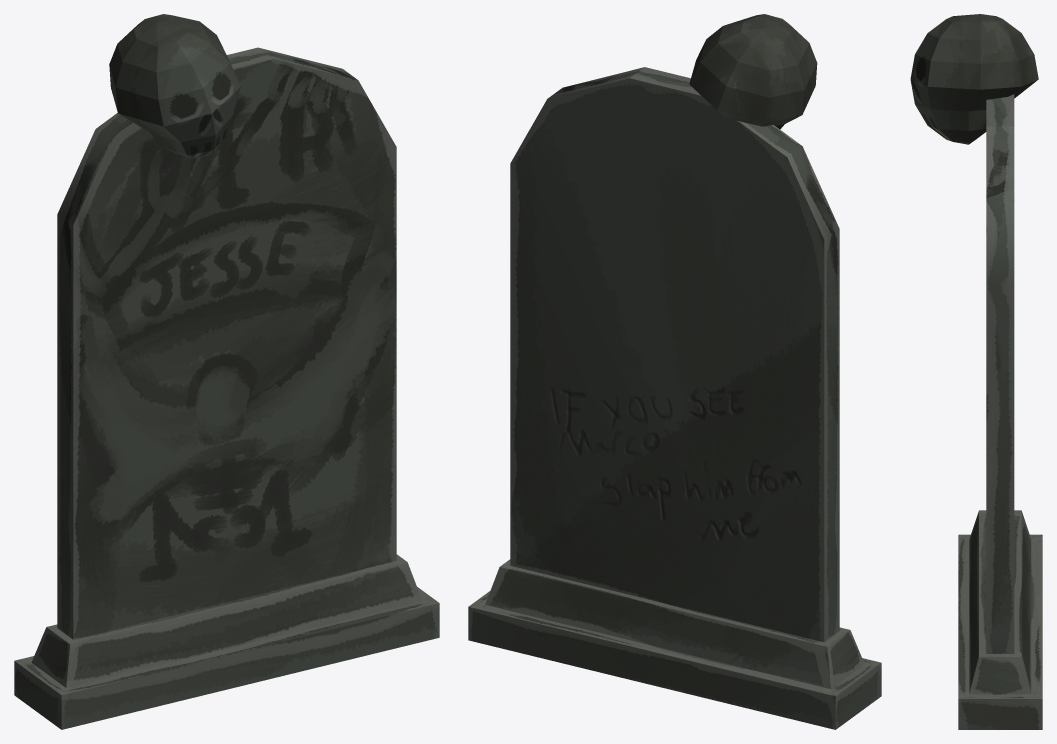
Rendered from JesseGrave_Geo.fbx.
3 views of the same model, side by side, from view 1: azimuth 30°, elevation 25°; view 2: azimuth 150°, elevation 25°; view 3: azimuth 270°, elevation 25° (orthographic). The views are drawn at different scales.
Visible parts, largest first — view 1: JesseGrave_Geo; view 2: JesseGrave_Geo; view 3: JesseGrave_Geo.
Boxes of the visible parts, left/top/right/bottom form: JesseGrave_Geo: left=14, top=14, right=439, bottom=729; JesseGrave_Geo: left=468, top=14, right=881, bottom=729; JesseGrave_Geo: left=910, top=14, right=1042, bottom=729.
Bounding box in the file's own units: 108 × 183 × 36.61.
